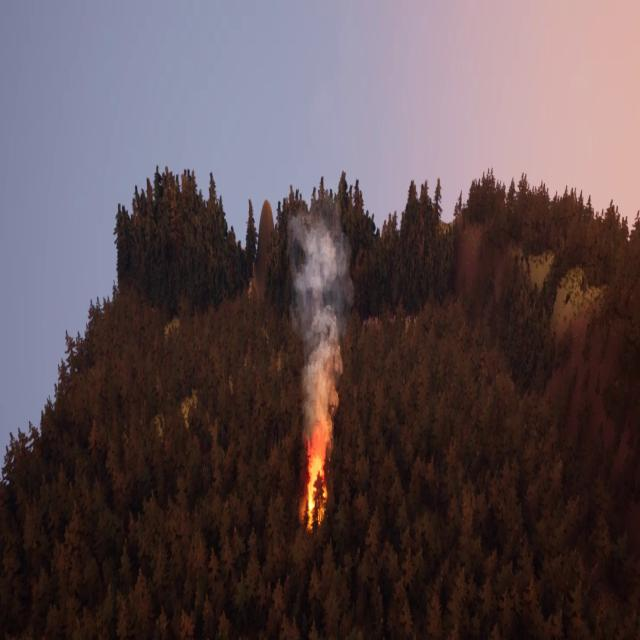fire: (302, 442, 330, 528)
smoke: (284, 198, 354, 430)
